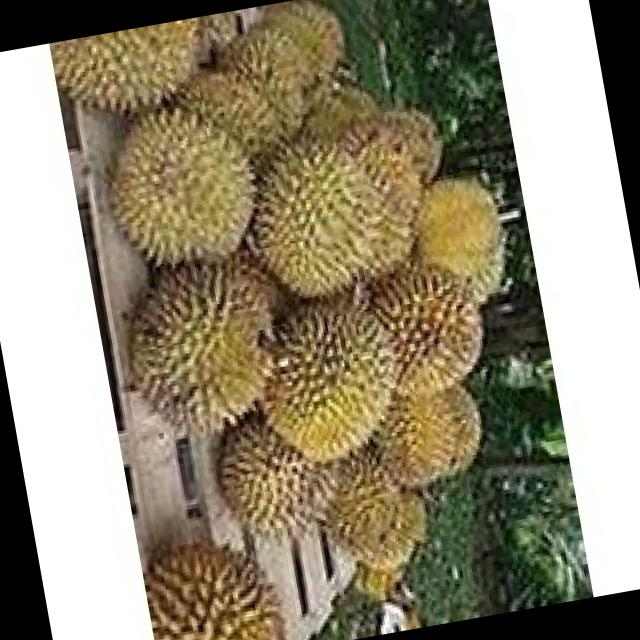fruit: (180, 251, 498, 492), (205, 86, 477, 331), (183, 394, 461, 617), (70, 33, 286, 292), (98, 227, 316, 462), (50, 507, 309, 640), (46, 14, 230, 144)
